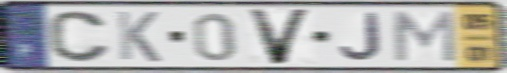0: (190, 11, 241, 62)
C: (46, 9, 114, 64)
J: (338, 11, 384, 63)
K: (114, 9, 163, 64)
M: (391, 9, 458, 64)
V: (245, 7, 316, 67)
